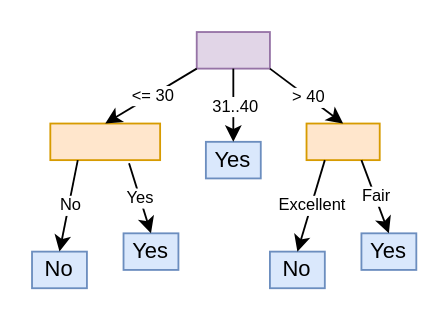
This 448x320 diagram has some shape labels left out. The centre of each missing label's shape, as x and y in pixels:
Age: (232,49)
CR: (342,141)
Student: (104,141)
